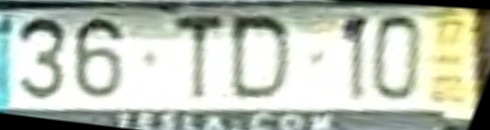0: (370, 13, 427, 103)
1: (337, 14, 366, 101)
3: (16, 14, 71, 102)
6: (73, 15, 127, 99)
D: (228, 15, 295, 101)
T: (172, 15, 225, 100)
